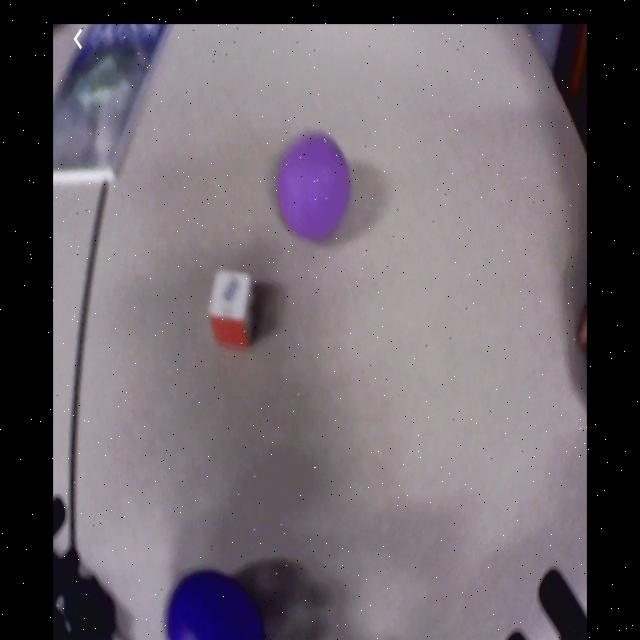ball: (272, 130, 351, 243), (164, 571, 263, 640)
